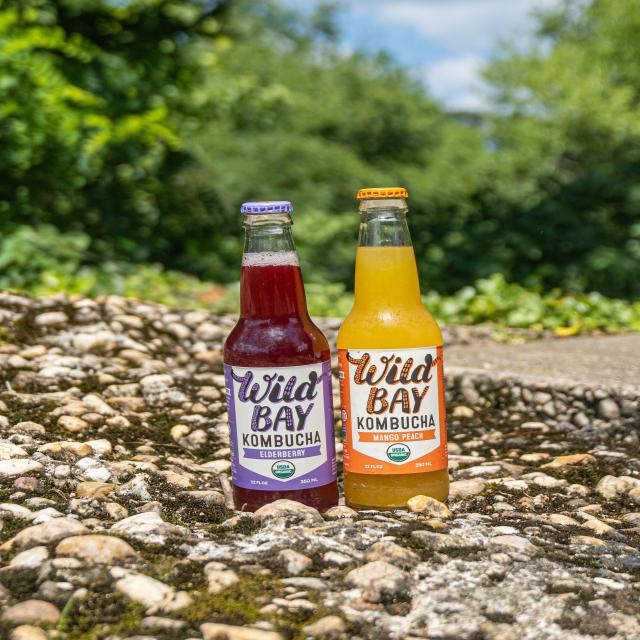Bottle: (224, 202, 338, 511), (338, 189, 448, 508)
